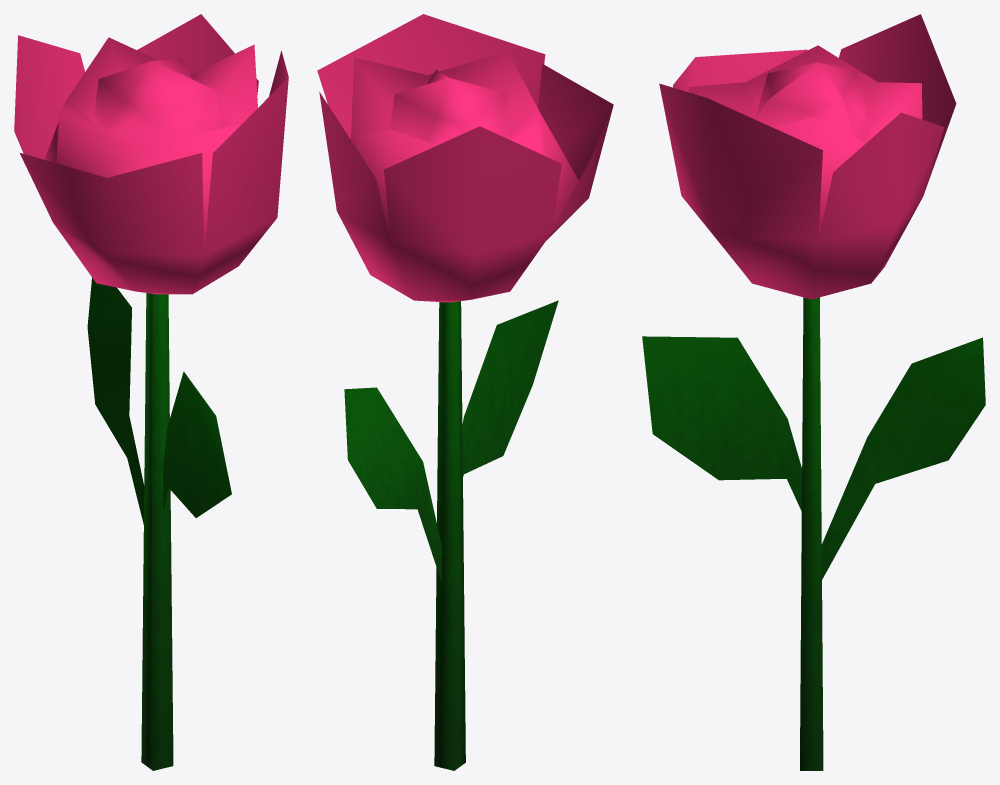
Rendered from rose.fbx.
3 views of the same model, side by side, from view 1: azimuth 30°, elevation 25°; view 2: azimuth 150°, elevation 25°; view 3: azimuth 270°, elevation 25° (orthographic).
Visible parts, largest first — view 1: rose; view 2: rose; view 3: rose.
Boxes of the visible parts, x1,y1,x2,y2 form: rose: (14, 14, 288, 770); rose: (317, 14, 613, 770); rose: (642, 14, 985, 770).
Bounding box in the file's own units: 0.198 × 0.4979 × 0.2182.
